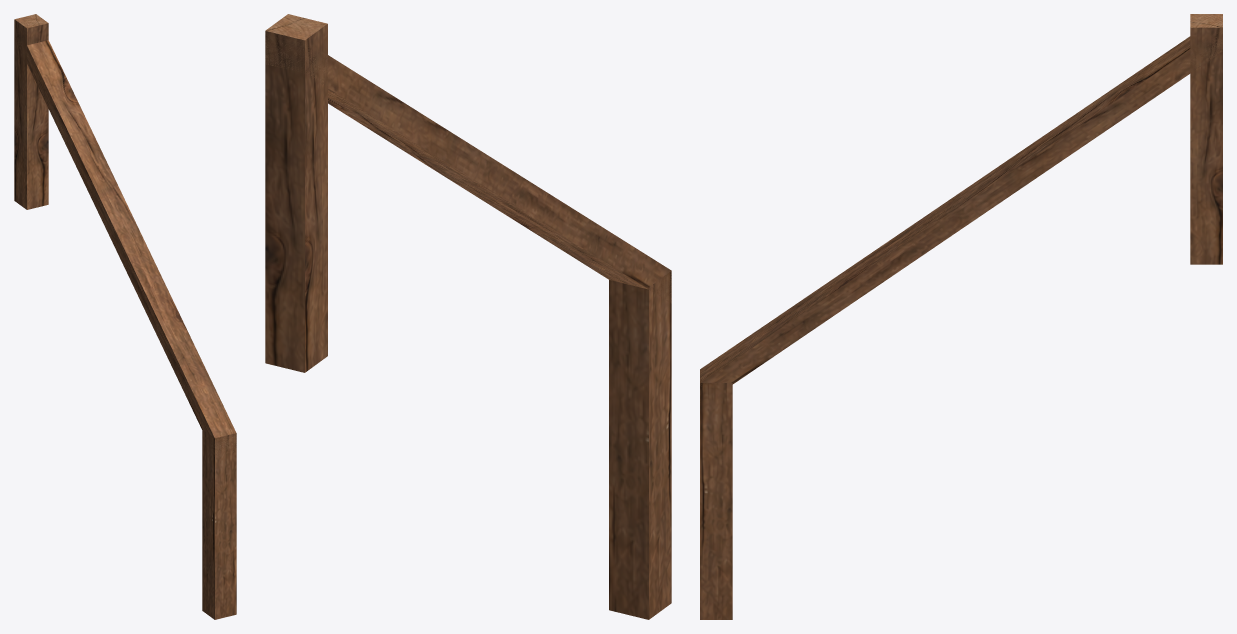
The model's file is W24_StairHandrail_0.25Wx2.5Hx2D.fbx.
3 renders of one model, left to right at view 1: azimuth 30°, elevation 25°; view 2: azimuth 150°, elevation 25°; view 3: azimuth 270°, elevation 25°, orthographic. The views are drawn at different scales.
Visible parts, largest first — view 1: StairKit_W24_Export; view 2: StairKit_W24_Export; view 3: StairKit_W24_Export.
Boxes of the visible parts, x1,y1,x2,y2 form: StairKit_W24_Export: (14,14,236,619); StairKit_W24_Export: (265,14,671,619); StairKit_W24_Export: (700,14,1222,619).
Bounding box in the file's own units: 0.125 × 2.5 × 2.
